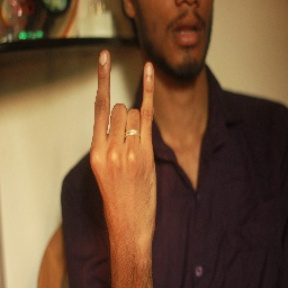V: (85, 44, 161, 224)
